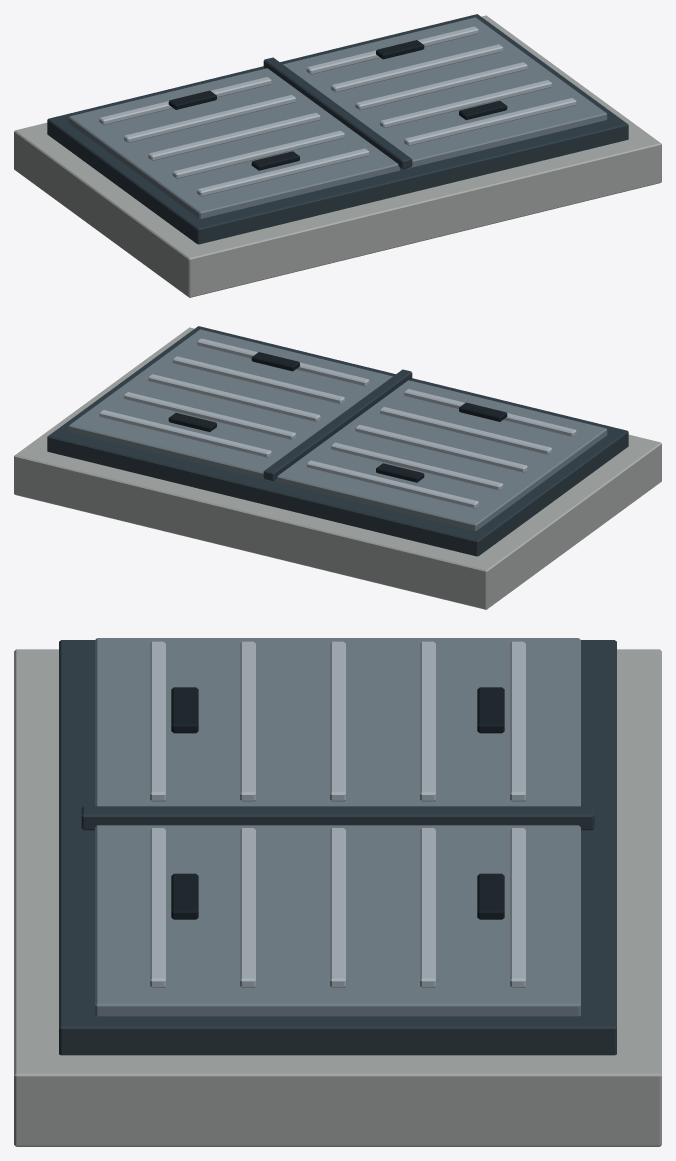
The model's file is b05_telecom_vault_access_cover.glb.
The picture shows the model from 3 angles, top to bottom: view 1: azimuth 30°, elevation 25°; view 2: azimuth 150°, elevation 25°; view 3: azimuth 270°, elevation 25°; orthographic projection. The views are drawn at different scales.
Visible parts, largest first — view 1: b05_telecom_vault_access_cover; view 2: b05_telecom_vault_access_cover; view 3: b05_telecom_vault_access_cover.
Boxes of the visible parts, x1,y1,x2,y2 form: b05_telecom_vault_access_cover: [14, 14, 661, 297]; b05_telecom_vault_access_cover: [14, 326, 661, 609]; b05_telecom_vault_access_cover: [14, 638, 661, 1146].
Size of the model in its own units: 1.12 by 0.167 by 0.72.
